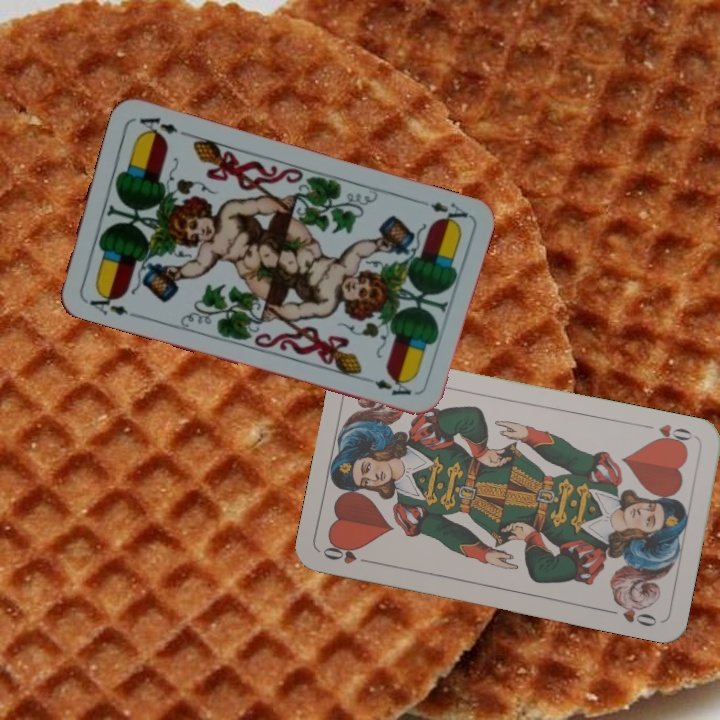EA: (81, 287, 139, 321), (426, 198, 471, 228)
HO: (318, 540, 377, 567), (648, 420, 698, 450)
